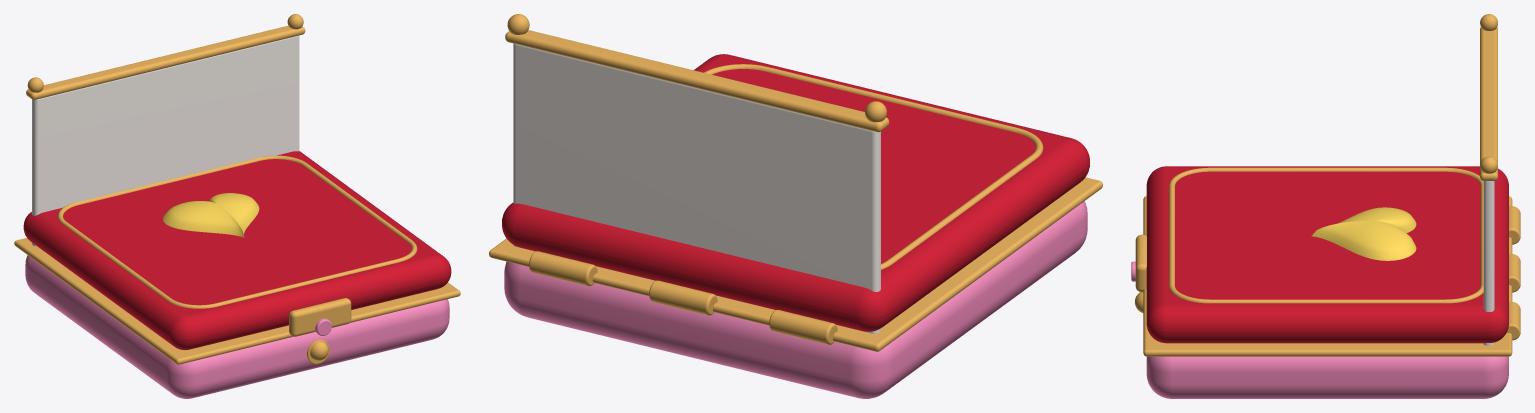
The model's file is compact.glb.
3 views of the same model, side by side, from view 1: azimuth 30°, elevation 25°; view 2: azimuth 150°, elevation 25°; view 3: azimuth 270°, elevation 25° (orthographic). The views are drawn at different scales.
Visible parts, largest first — view 1: Lid, Wall, Base, Heart, Clasp; view 2: Wall, Lid, Base; view 3: Lid, Base, Wall, Heart, Clasp.
Boxes of the visible parts, left/top/right/bottom form: Lid: left=23, top=151, right=451, bottom=350; Wall: left=26, top=14, right=305, bottom=246; Base: left=14, top=238, right=460, bottom=398; Heart: left=163, top=193, right=259, bottom=237; Clasp: left=289, top=298, right=351, bottom=336; Wall: left=505, top=14, right=889, bottom=333; Lid: left=502, top=54, right=1089, bottom=331; Base: left=489, top=177, right=1102, bottom=398; Lid: left=1146, top=166, right=1520, bottom=343; Base: left=1143, top=196, right=1520, bottom=398; Wall: left=1480, top=14, right=1497, bottom=345; Heart: left=1311, top=207, right=1416, bottom=260; Clasp: left=1131, top=234, right=1146, bottom=291.
Bounding box in the file's own units: 4.07 × 3.08 × 4.3.
